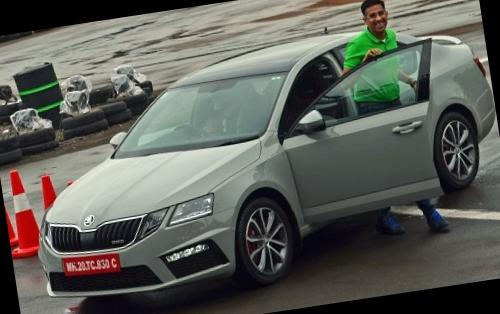plate: (52, 238, 131, 289)
